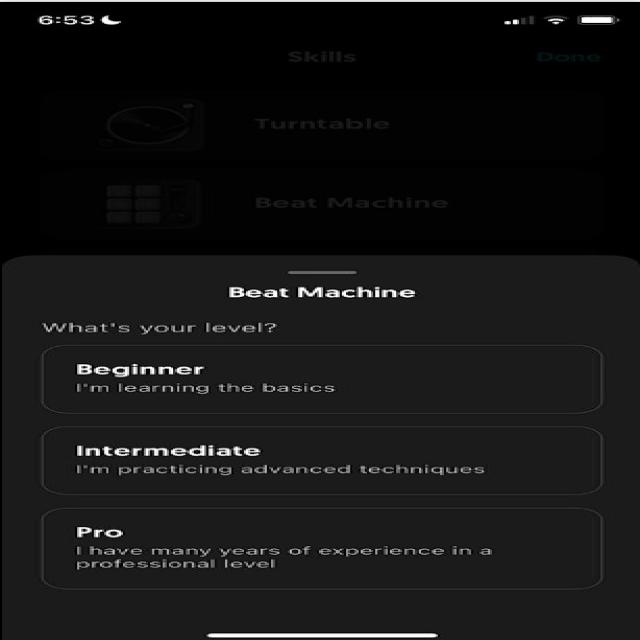row: (19, 499, 626, 593), (22, 339, 626, 418), (18, 422, 621, 497)
text: (57, 515, 523, 572), (66, 432, 542, 479), (63, 354, 400, 402), (27, 314, 302, 340), (203, 281, 452, 306)
